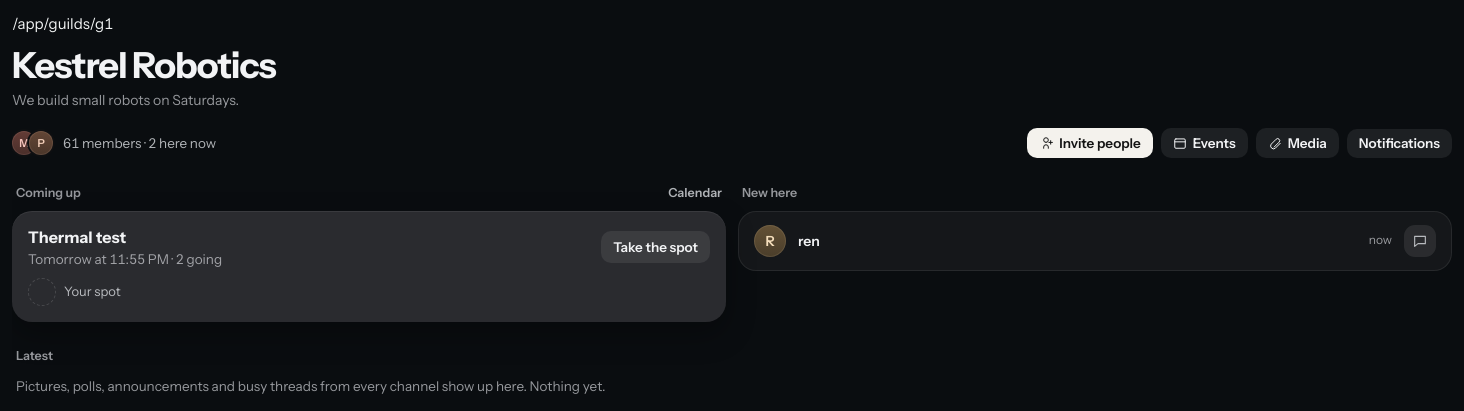
Scenario: the widget column › shows the next events and RSVPs on the first
The image size is (1464, 411).
expect the element named "Event: Thermal test" shows "2 going": met, box [12,211,726,322]
What coordinates should you click on to do the following:
click the button "Take the spot"
I would click on:
 (656, 247)
Its box is [601,231,710,263].
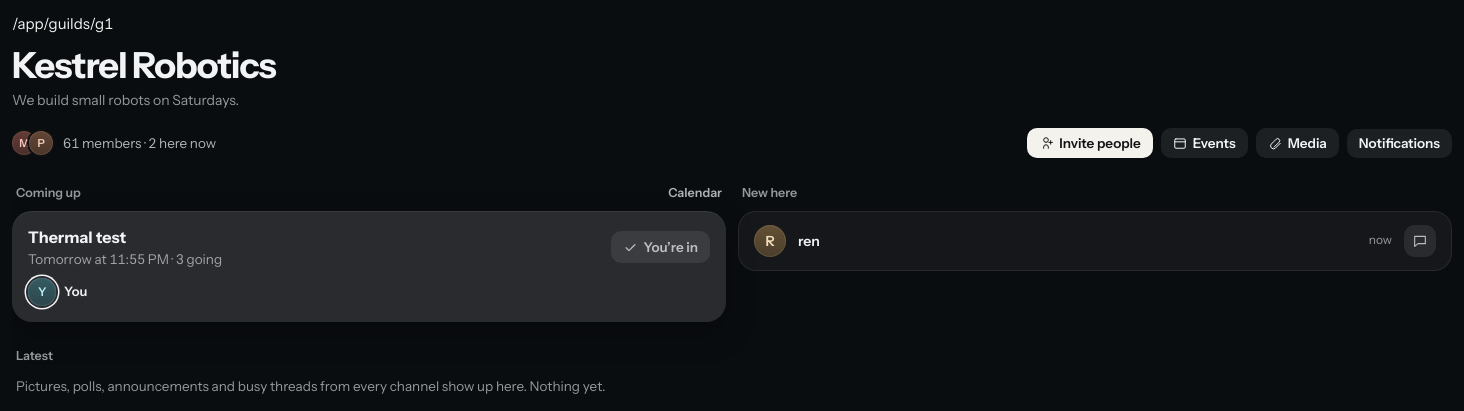
expect the button "You’re in" is shown: met, box [611,231,710,263]
